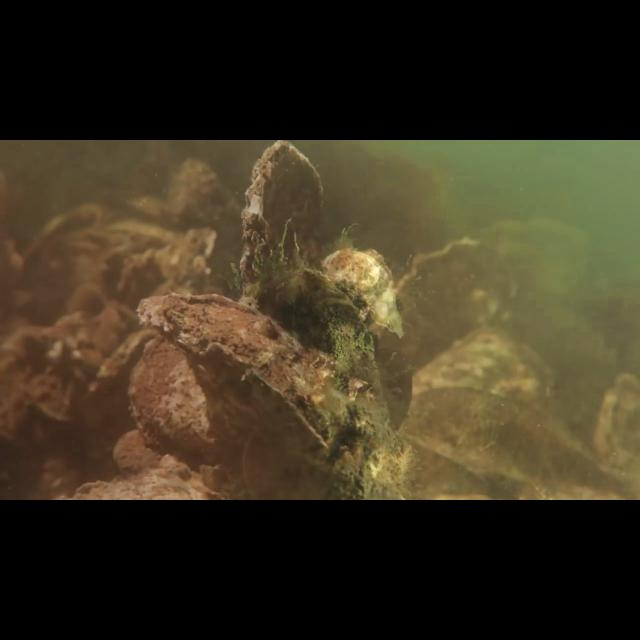Oyster-Closed: (131, 281, 372, 456), (279, 267, 415, 500), (124, 339, 251, 454), (238, 140, 323, 303), (314, 246, 405, 342)
